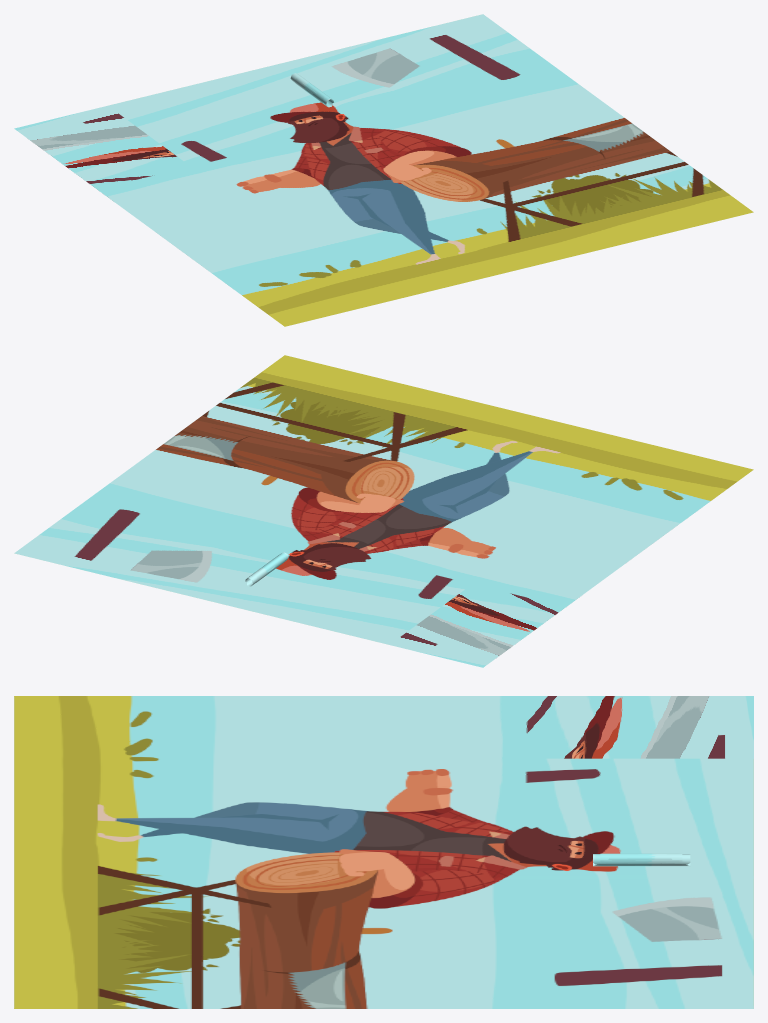
The picture shows the model from 3 angles, top to bottom: view 1: azimuth 30°, elevation 25°; view 2: azimuth 150°, elevation 25°; view 3: azimuth 270°, elevation 25°; orthographic projection. The views are drawn at different scales.
Parts seen in each view (by area): view 1: Mesh, pipe; view 2: Mesh, pipe; view 3: Mesh, pipe, telescope.
Boxes of the visible parts, box(x1,y1,x2,y2) form: Mesh: box(14, 14, 753, 326); pipe: box(27, 71, 389, 202); Mesh: box(14, 355, 753, 667); pipe: box(222, 526, 584, 658); Mesh: box(14, 696, 753, 1008); pipe: box(476, 696, 718, 878); telescope: box(593, 853, 690, 866).
Size of the model in its own units: 2400 by 48.63 by 2400.
